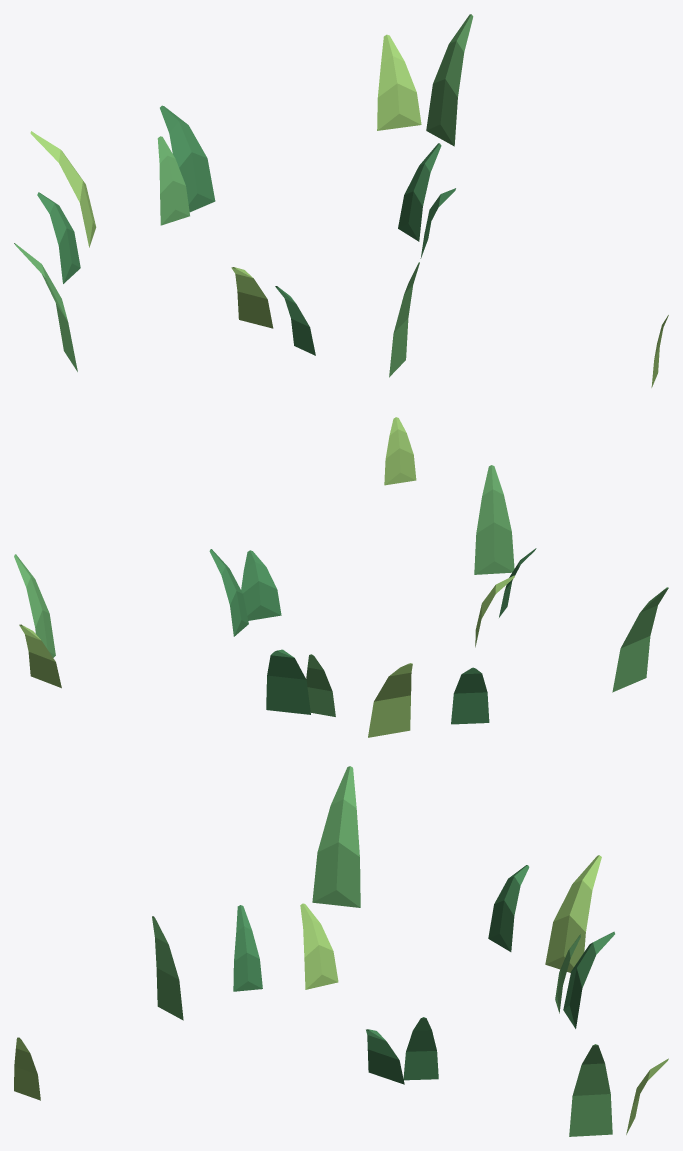
File: grass_short_c.glb
3 views of the same model, one above another, from view 1: azimuth 30°, elevation 25°; view 2: azimuth 150°, elevation 25°; view 3: azimuth 270°, elevation 25° (orthographic). The views are drawn at different scales.
Visible parts, largest first — view 1: GrassShortC; view 2: GrassShortC; view 3: GrassShortC.
Boxes of the visible parts, left/top/right/bottom form: GrassShortC: left=14, top=14, right=668, bottom=387; GrassShortC: left=14, top=417, right=668, bottom=737; GrassShortC: left=14, top=766, right=668, bottom=1136.
Size of the model in its own units: 1.33 by 0.2704 by 1.37.
